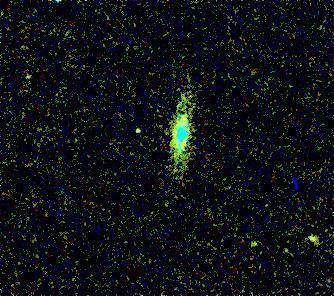star: (121, 116, 151, 146)
